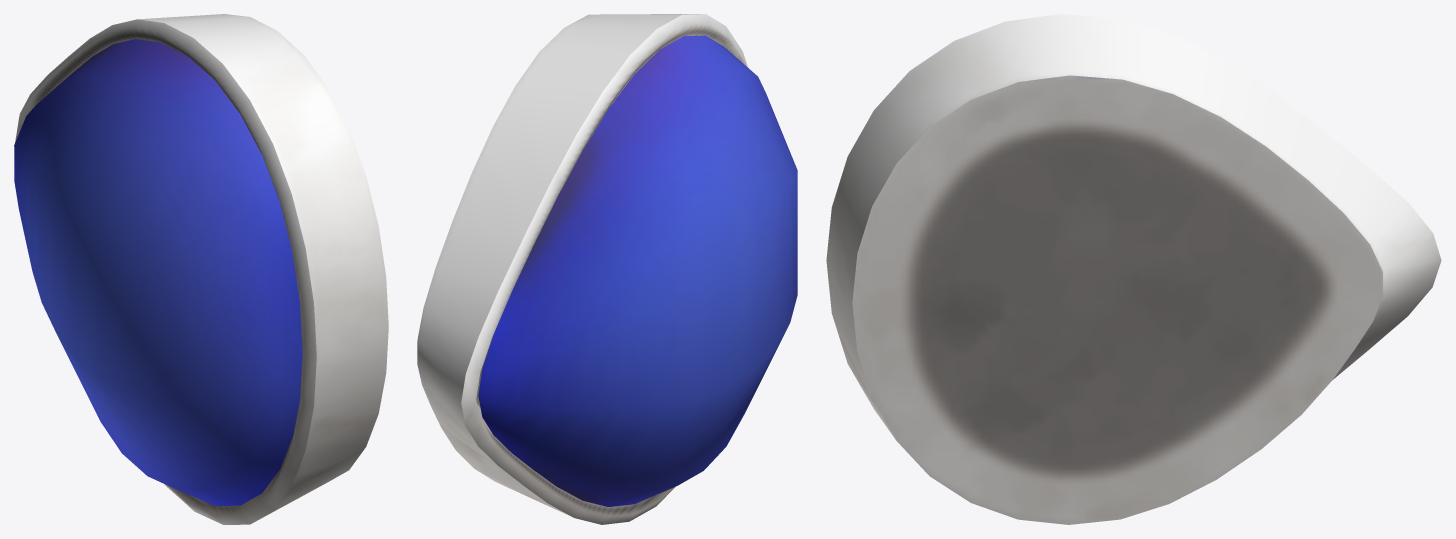
Rendered from SM_Gem_C_Silver.fbx.
3 views of the same model, side by side, from view 1: azimuth 30°, elevation 25°; view 2: azimuth 150°, elevation 25°; view 3: azimuth 270°, elevation 25° (orthographic). The views are drawn at different scales.
Parts seen in each view (by area): view 1: SM_Gem_C_Silver_LOD0; view 2: SM_Gem_C_Silver_LOD0; view 3: SM_Gem_C_Silver_LOD0.
Boxes of the visible parts, x1,y1,x2,y2 form: SM_Gem_C_Silver_LOD0: (14,14,388,524); SM_Gem_C_Silver_LOD0: (417,14,797,524); SM_Gem_C_Silver_LOD0: (826,14,1441,524).
Bounding box in the file's own units: 1.3 × 3.59 × 3.12.
Materials: 1 (1 with a texture image).
